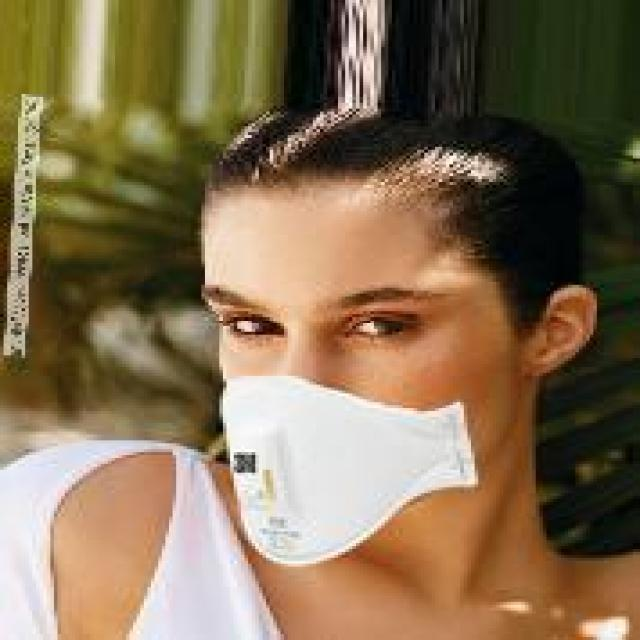mask: (148, 141, 612, 572)
